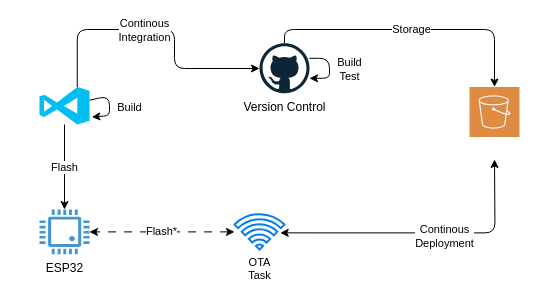
This 536x300 diagram has some shape labels left out. The centre of each missing label's shape, as x and y in pixels:
"AWS S3" goes at [494,111].
"IDE" goes at [64,105].
